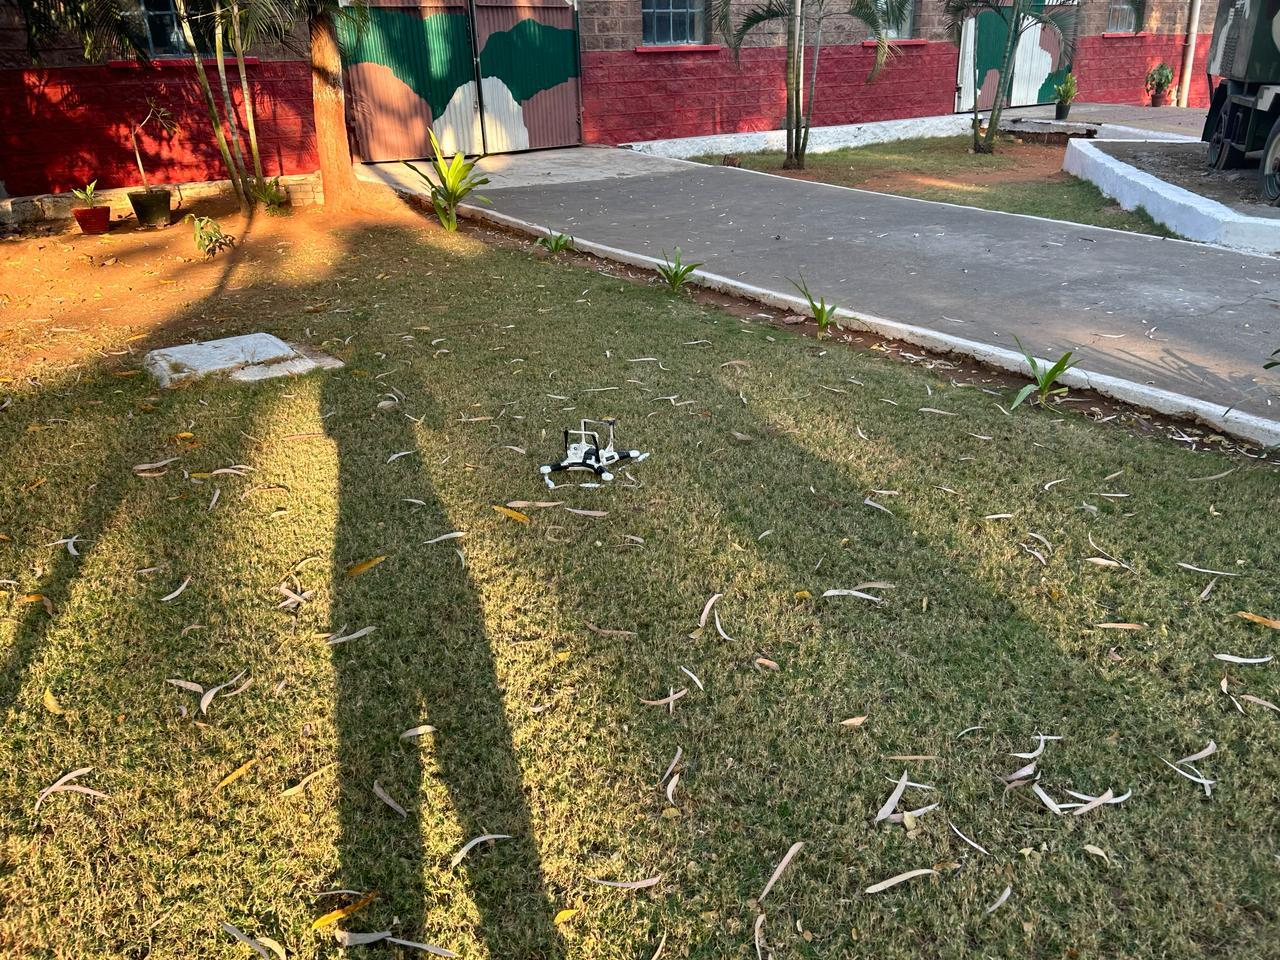drone: (526, 398, 662, 505)
